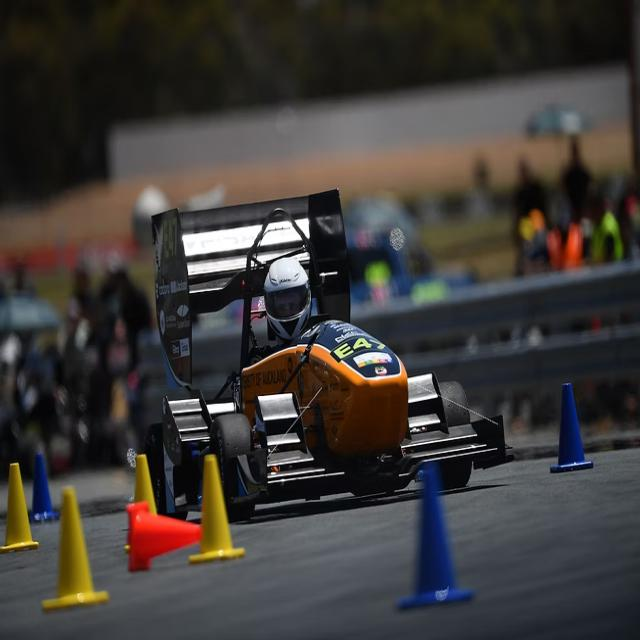blue_cone: (398, 466, 472, 610), (550, 383, 594, 472), (26, 454, 59, 520)
yellow_cone: (42, 487, 108, 612), (190, 457, 246, 564), (0, 462, 39, 552), (125, 455, 160, 549)
